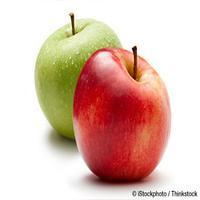apple: (73, 54, 171, 181), (34, 16, 126, 143)
